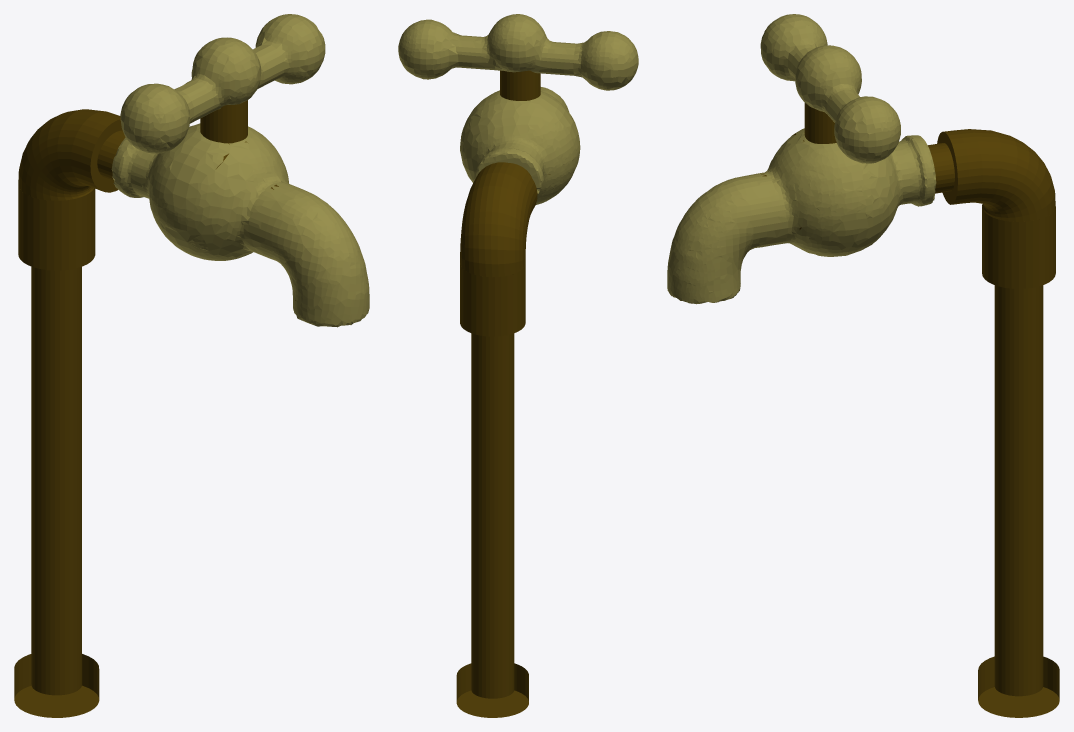
The model's file is Tubo.glb.
The picture shows the model from 3 angles, left to right: view 1: azimuth 30°, elevation 25°; view 2: azimuth 150°, elevation 25°; view 3: azimuth 270°, elevation 25°; orthographic projection. The views are drawn at different scales.
Visible parts, largest first — view 1: Esfera.001; view 2: Esfera.001; view 3: Esfera.001.
Part boxes in pixels (x1=…): Esfera.001: x1=14, y1=14, x2=369, y2=717; Esfera.001: x1=398, y1=14, x2=638, y2=717; Esfera.001: x1=667, y1=14, x2=1059, y2=717.
Bounding box in the file's own units: 4.92 × 14.35 × 7.45.
